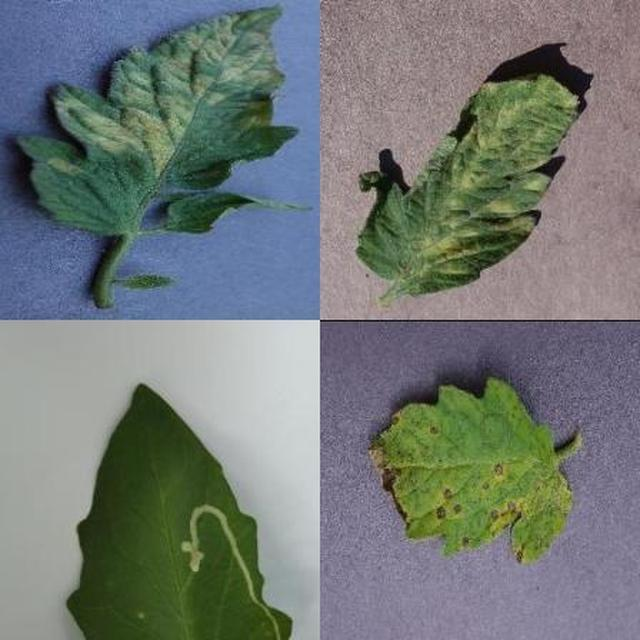Leaf Mold: (224, 173, 640, 640)
